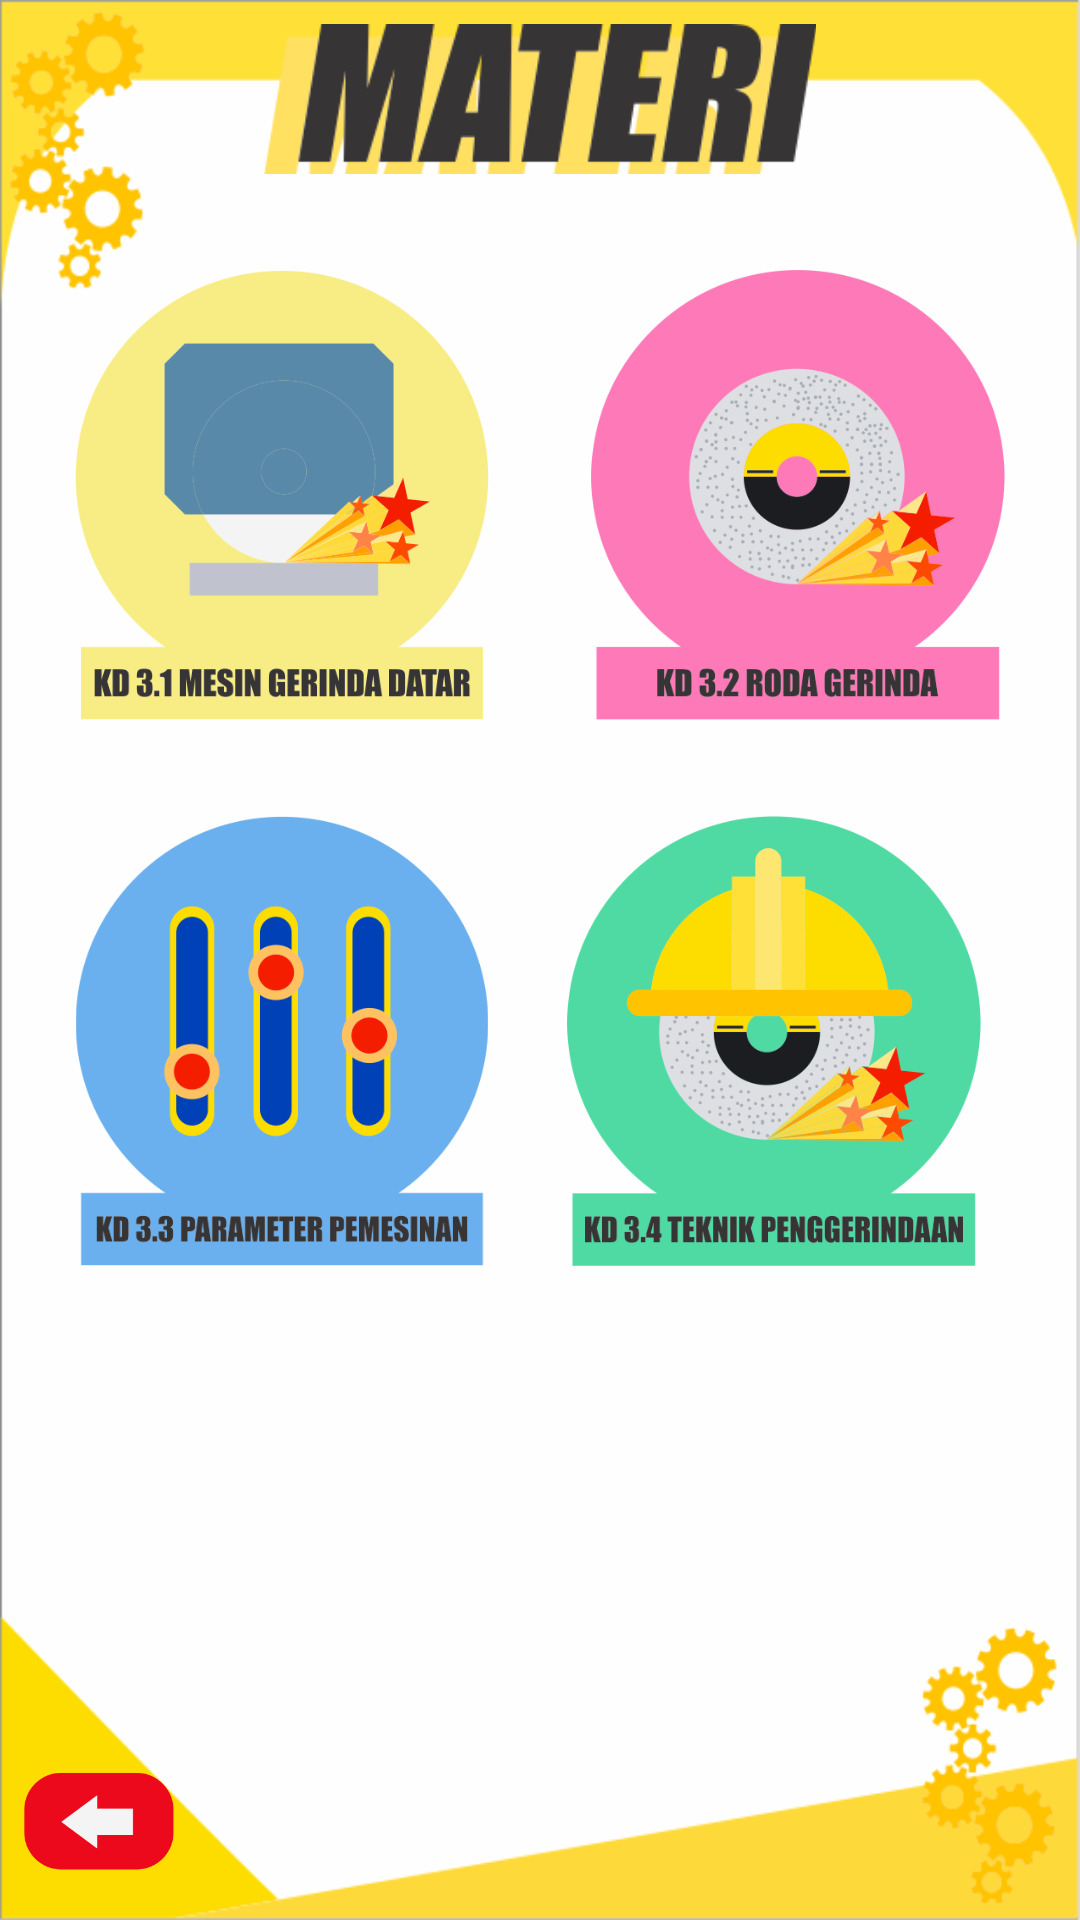

Icon bounding boxes for this 1080 x 1920 phone screenshot, format (x1, y1, x2, y2):
back: (24, 1746, 174, 1870)
